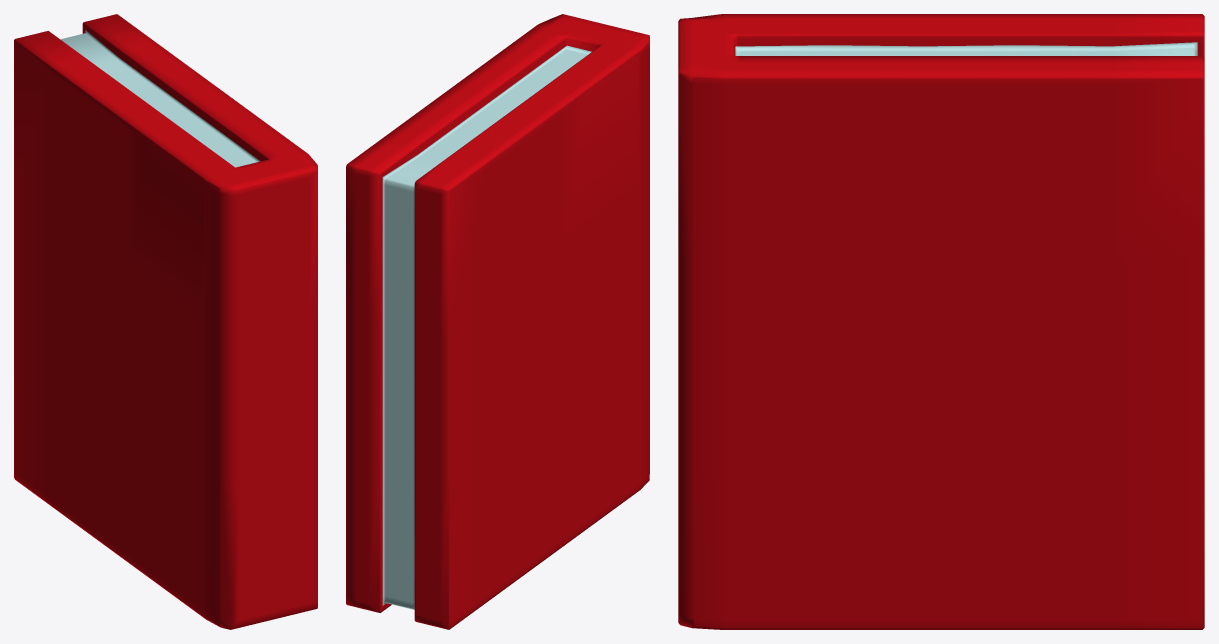
File: SM_Book_Red.fbx
3 renders of one model, left to right at view 1: azimuth 30°, elevation 25°; view 2: azimuth 150°, elevation 25°; view 3: azimuth 270°, elevation 25°, orthographic. The views are drawn at different scales.
Parts seen in each view (by area): view 1: SM_Book_Red; view 2: SM_Book_Red; view 3: SM_Book_Red.
Boxes of the visible parts, box(x1,y1,x2,y2) form: SM_Book_Red: box(14, 14, 317, 629); SM_Book_Red: box(346, 14, 649, 629); SM_Book_Red: box(678, 14, 1204, 629).
Size of the model in its own units: 48.99 by 200 by 173.
